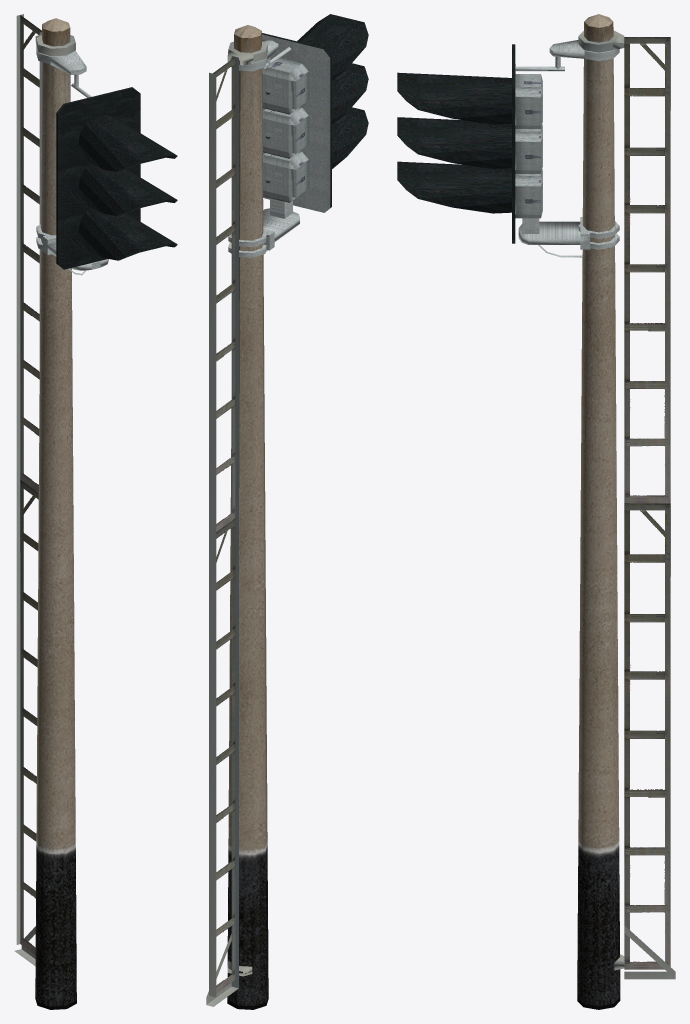
Rendered from mast.obj.
The picture shows the model from 3 angles, left to right: view 1: azimuth 30°, elevation 25°; view 2: azimuth 150°, elevation 25°; view 3: azimuth 270°, elevation 25°; orthographic projection.
Parts seen in each view (by area): view 1: Body_1_Footing_concrete, Body_0_Signal, Body_2_Stairway; view 2: Body_1_Footing_concrete, Body_0_Signal, Body_2_Stairway; view 3: Body_1_Footing_concrete, Body_0_Signal, Body_2_Stairway.
Boxes of the visible parts, <box> form: Body_1_Footing_concrete: <box>35,18,76,1009</box>; Body_0_Signal: <box>36,46,177,275</box>; Body_2_Stairway: <box>14,14,75,966</box>; Body_1_Footing_concrete: <box>227,25,268,1009</box>; Body_0_Signal: <box>228,14,368,257</box>; Body_2_Stairway: <box>206,41,267,1006</box>; Body_1_Footing_concrete: <box>577,14,620,1009</box>; Body_0_Signal: <box>397,40,619,257</box>; Body_2_Stairway: <box>578,30,675,979</box>.
Bounding box in the file's own units: 0.5618 × 6.38 × 1.63.
6 materials, 6 textured.
